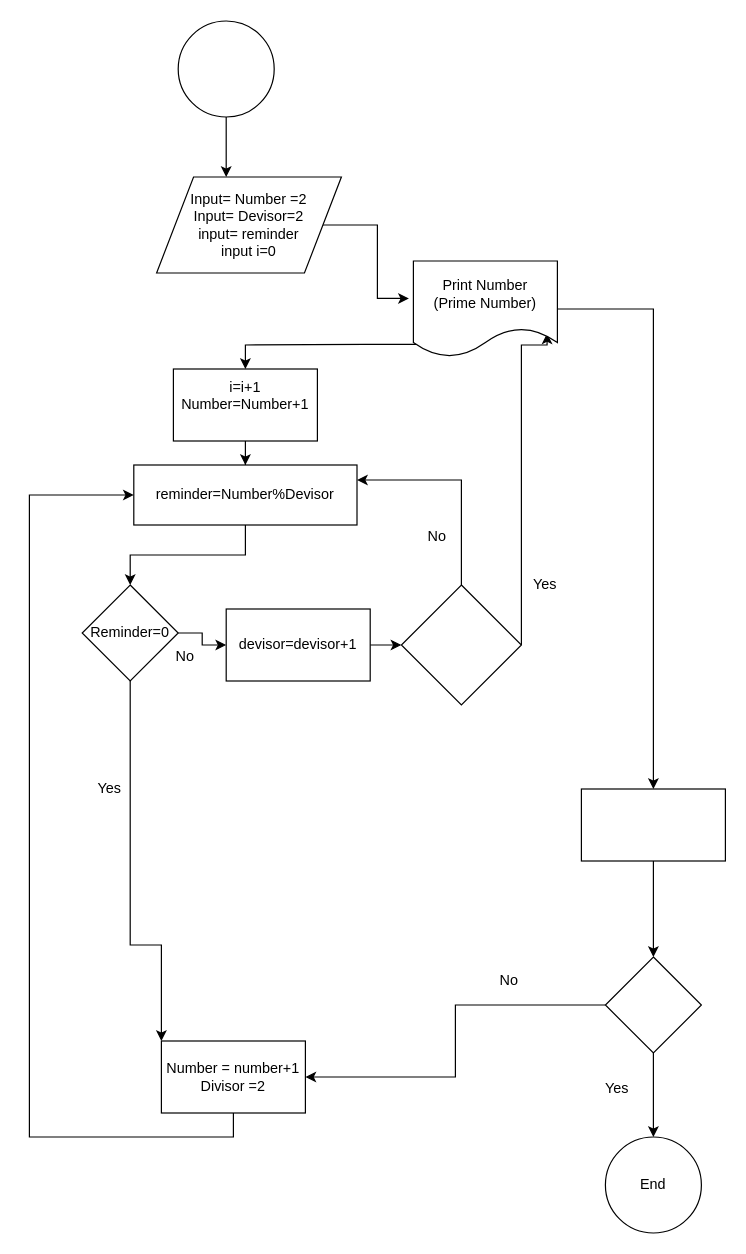
Image size: 746x1254. Some labels were removed from this diagram. Here are the shapes that lost their labels. From the top down, the centre of each, then its label:
At point (225, 68): "start".
At point (460, 644): "Devisor=Number".
At point (652, 824): "i=i+1".
At point (652, 1004): "i=100".
